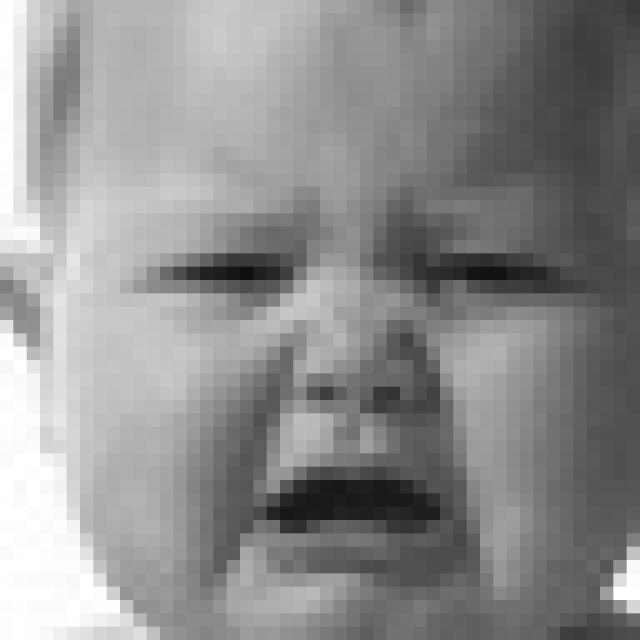sad: (129, 155, 596, 614)
